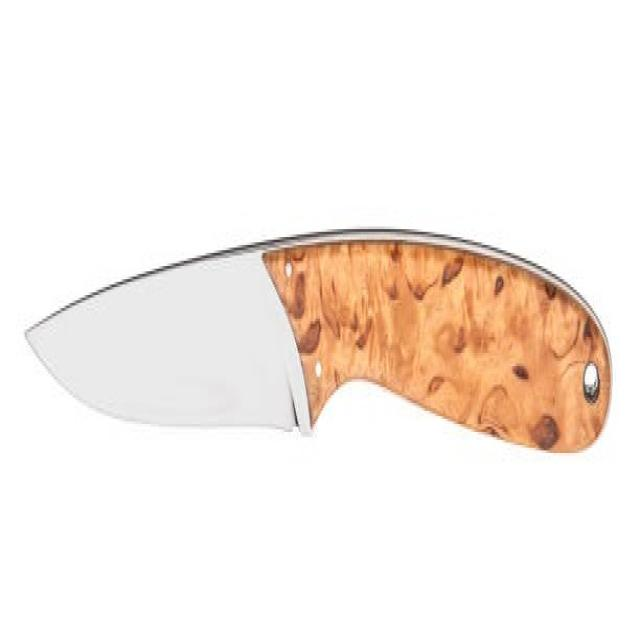knife: (17, 220, 616, 500)
